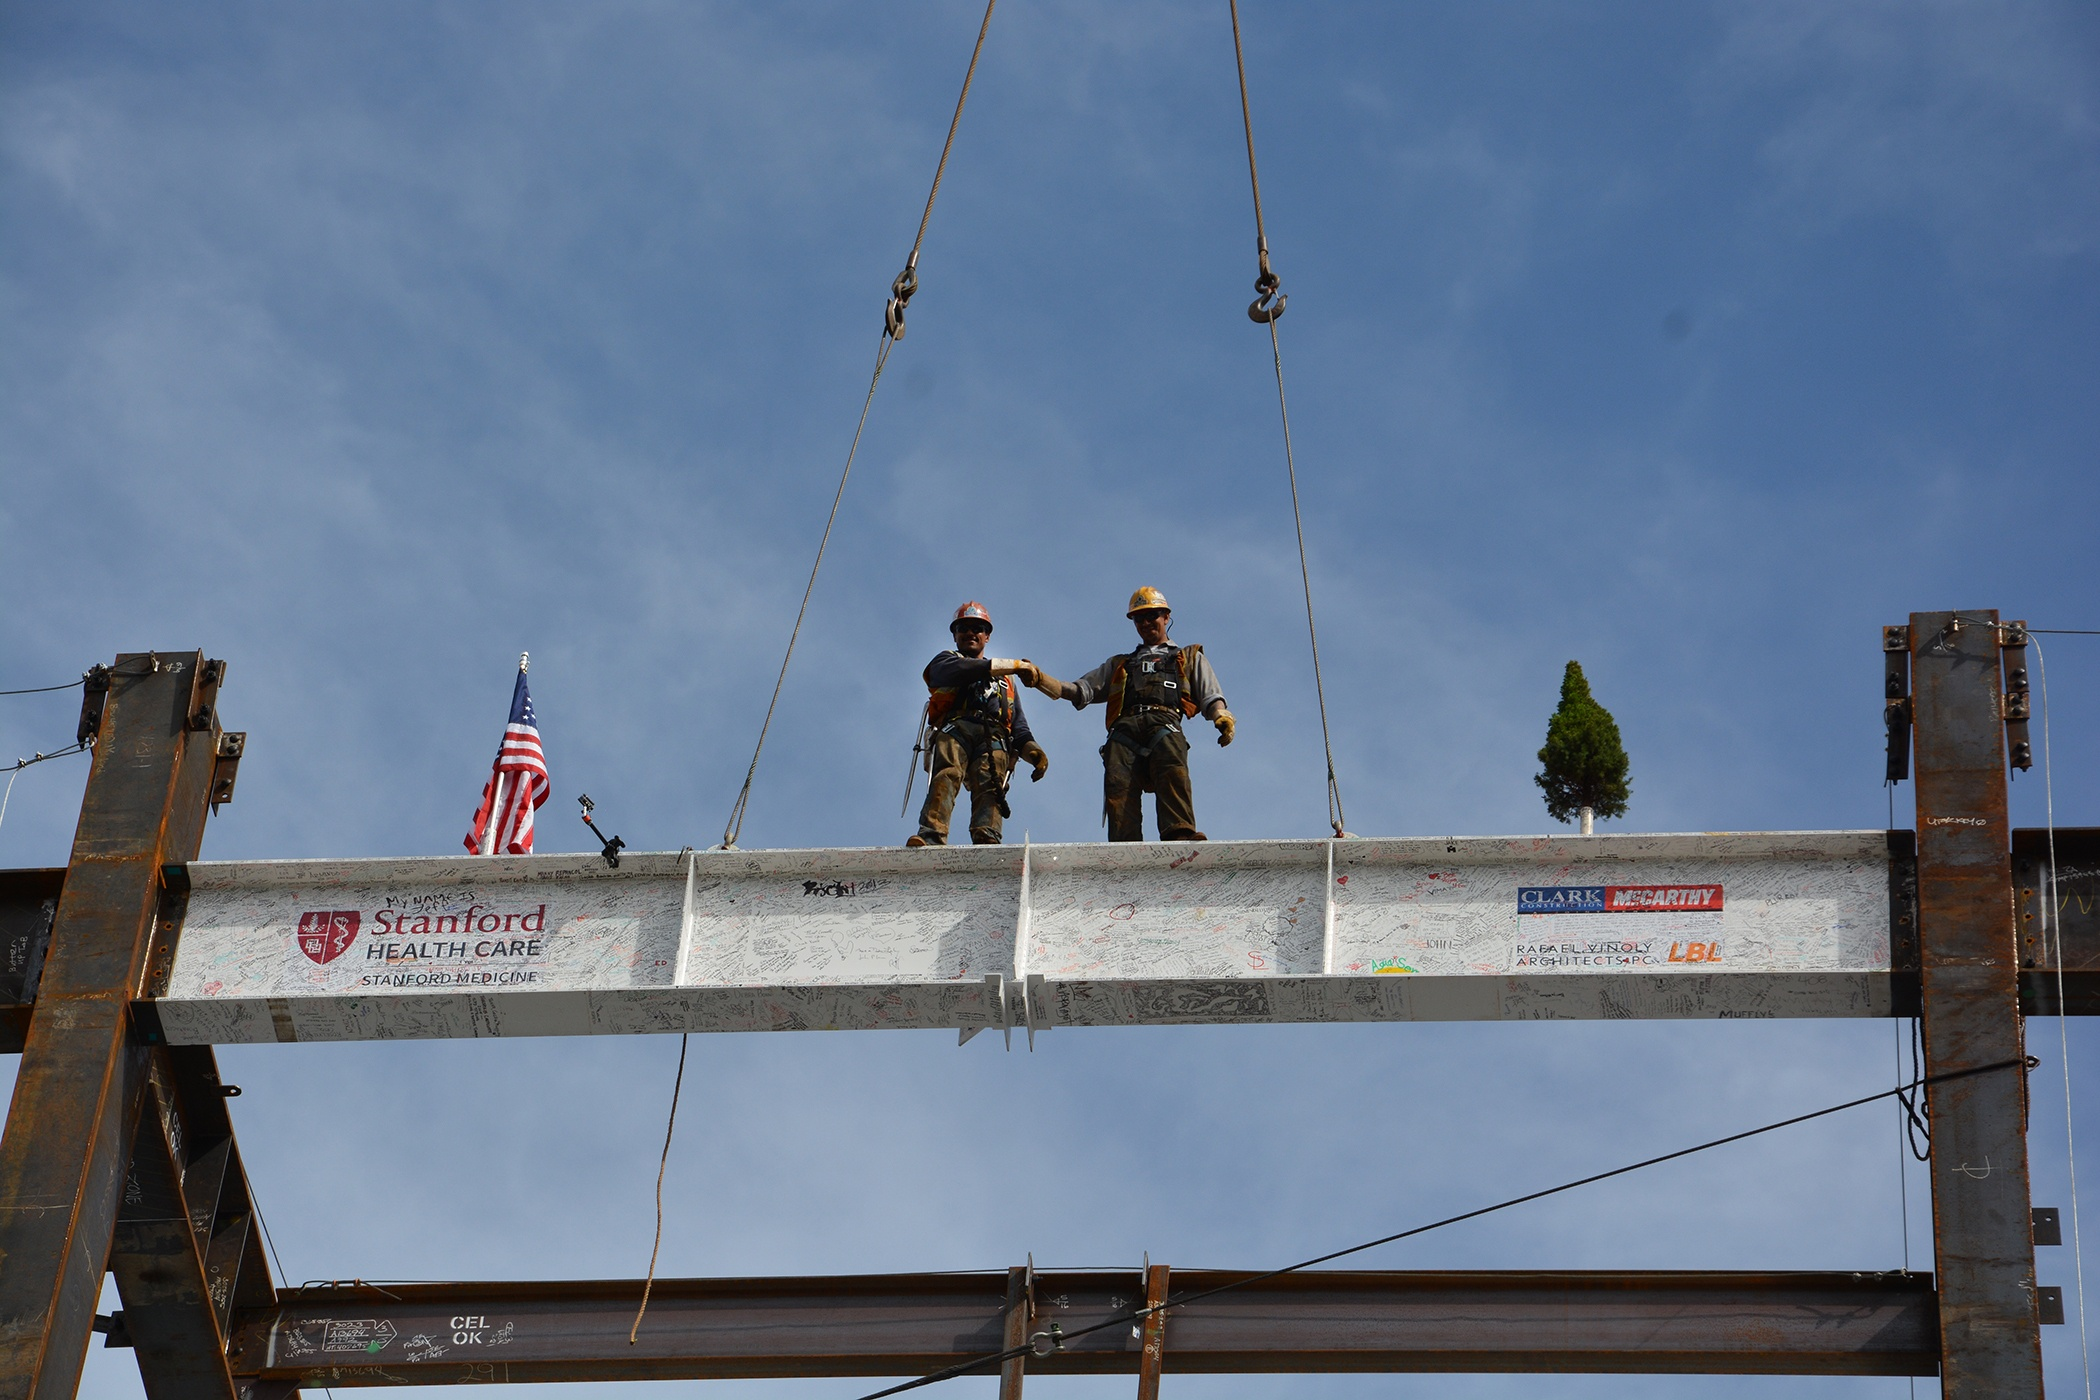red: (948, 602, 994, 652)
yellow: (1127, 584, 1173, 642)
